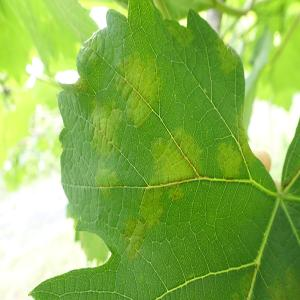Folha: (27, 0, 296, 298)
Fungo: (144, 125, 204, 184), (121, 44, 160, 121), (86, 98, 124, 156), (215, 127, 241, 178), (234, 110, 255, 168), (92, 158, 124, 193), (121, 216, 146, 260), (271, 263, 300, 300), (165, 19, 194, 52), (139, 186, 164, 223), (218, 42, 238, 82)
